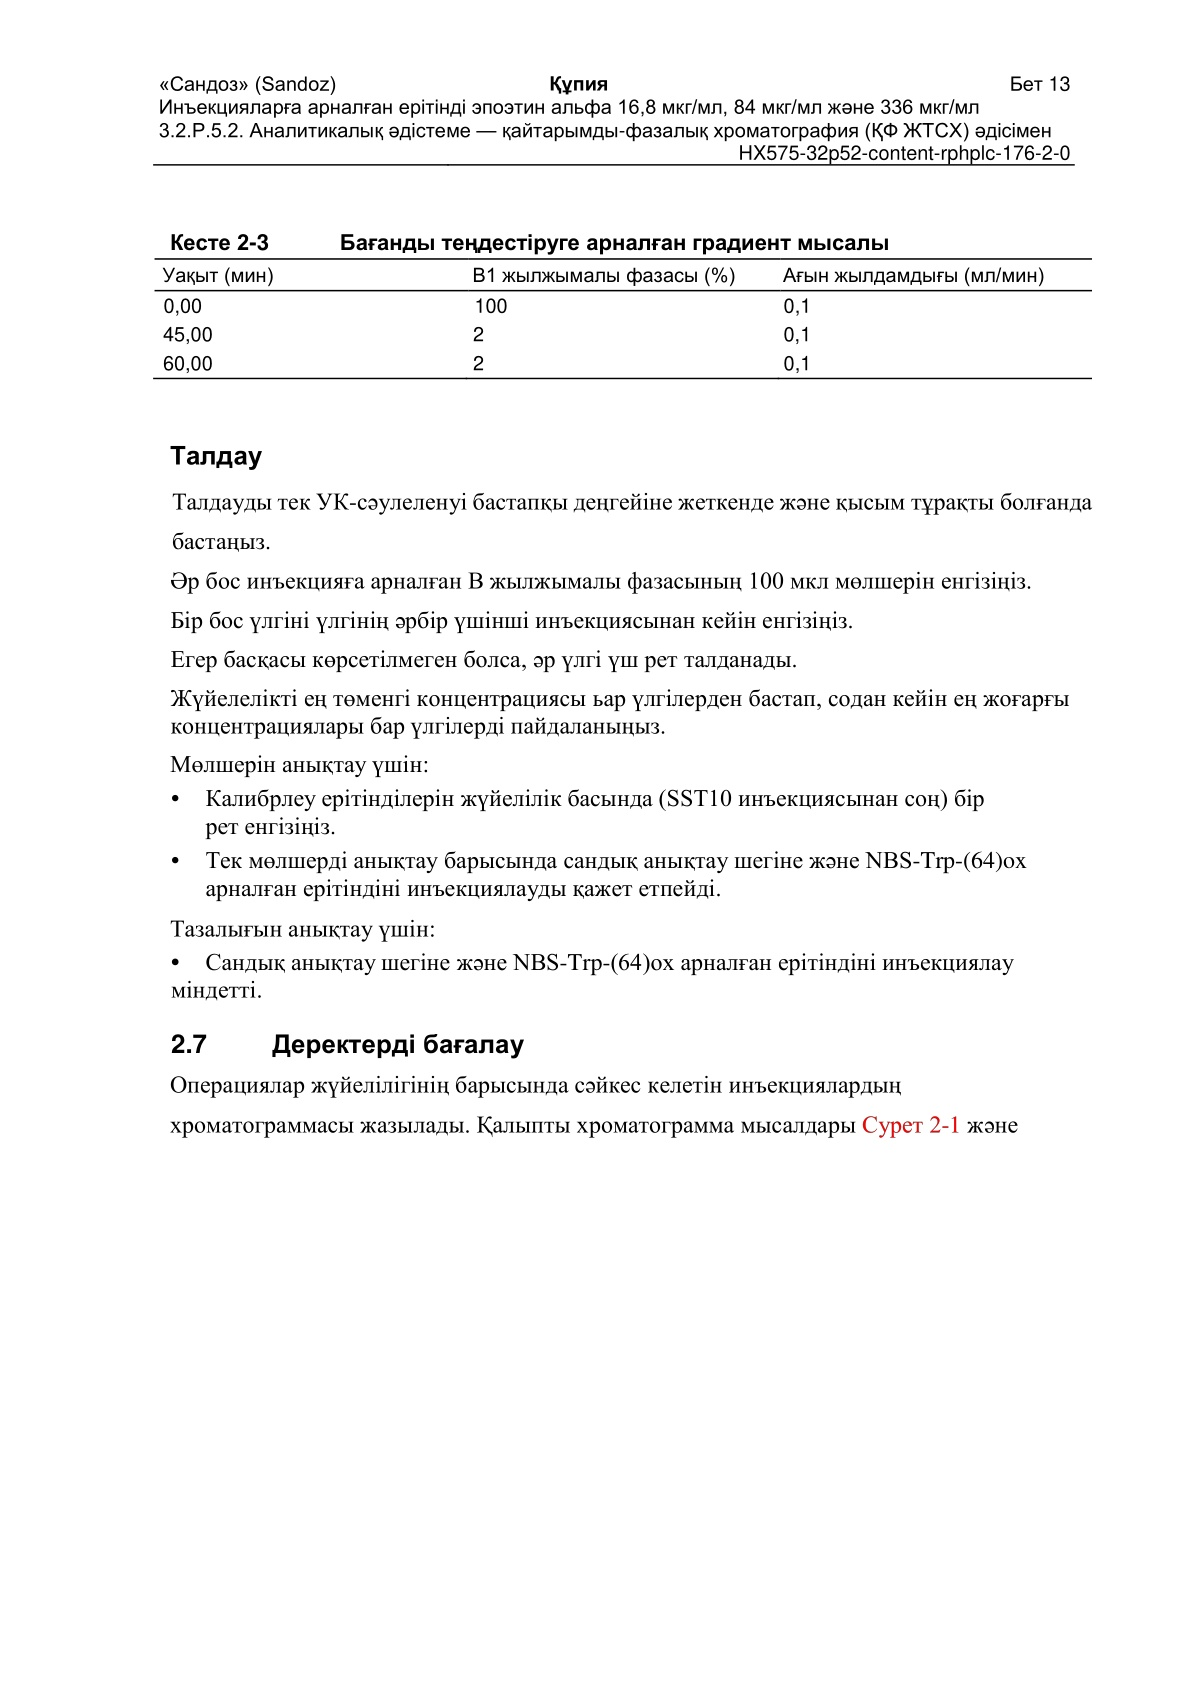partial_lined: (152, 256, 1092, 380)
